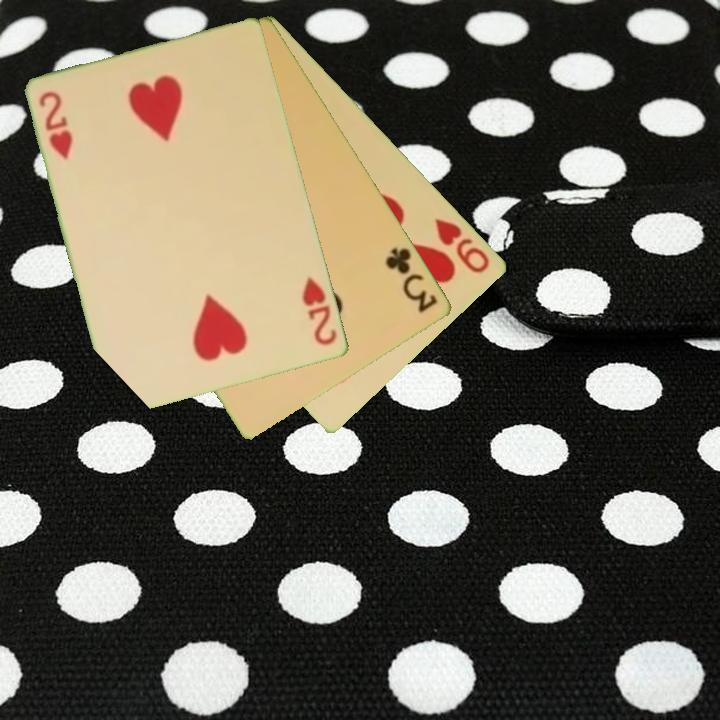2h: (299, 274, 340, 349), (36, 87, 76, 163)
3c: (382, 244, 441, 316)
9h: (431, 215, 493, 277)
